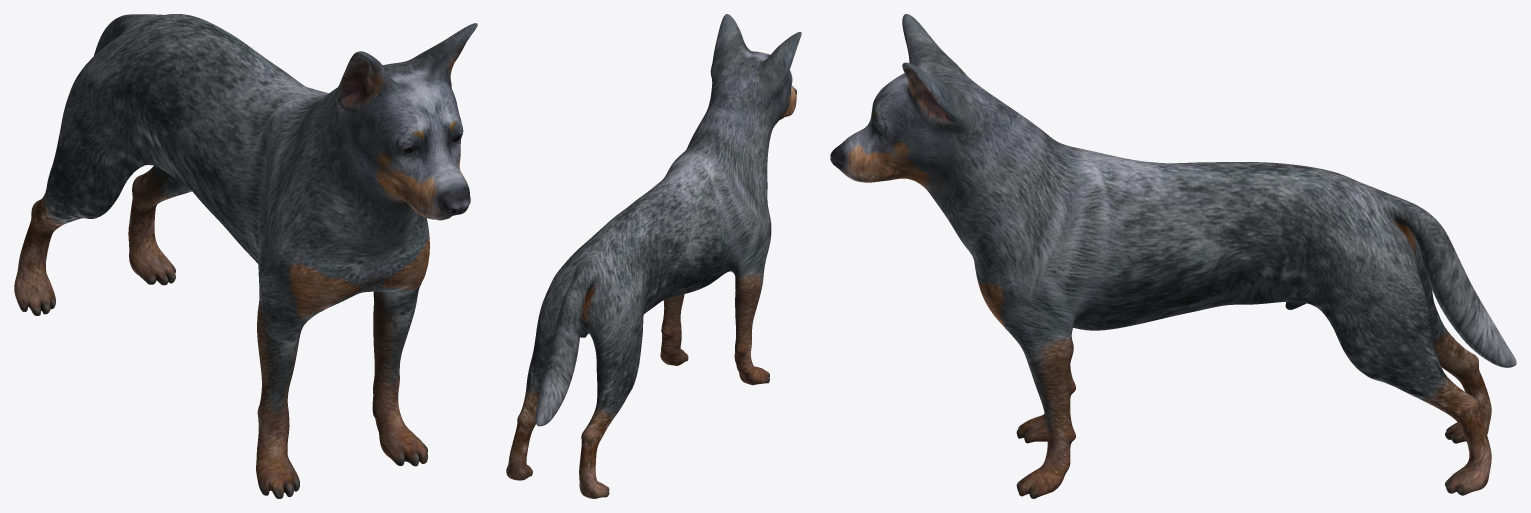
File: dog.glb
3 views of the same model, side by side, from view 1: azimuth 30°, elevation 25°; view 2: azimuth 150°, elevation 25°; view 3: azimuth 270°, elevation 25° (orthographic). The views are drawn at different scales.
Visible parts, largest first — view 1: dogMesh; view 2: dogMesh; view 3: dogMesh.
Boxes of the visible parts, x1,y1,x2,y2 form: dogMesh: [14, 14, 477, 498]; dogMesh: [506, 14, 801, 498]; dogMesh: [830, 14, 1516, 498].
Size of the model in its own units: 9.36 by 26.53 by 38.67.
Materials: 1 (1 with a texture image).
